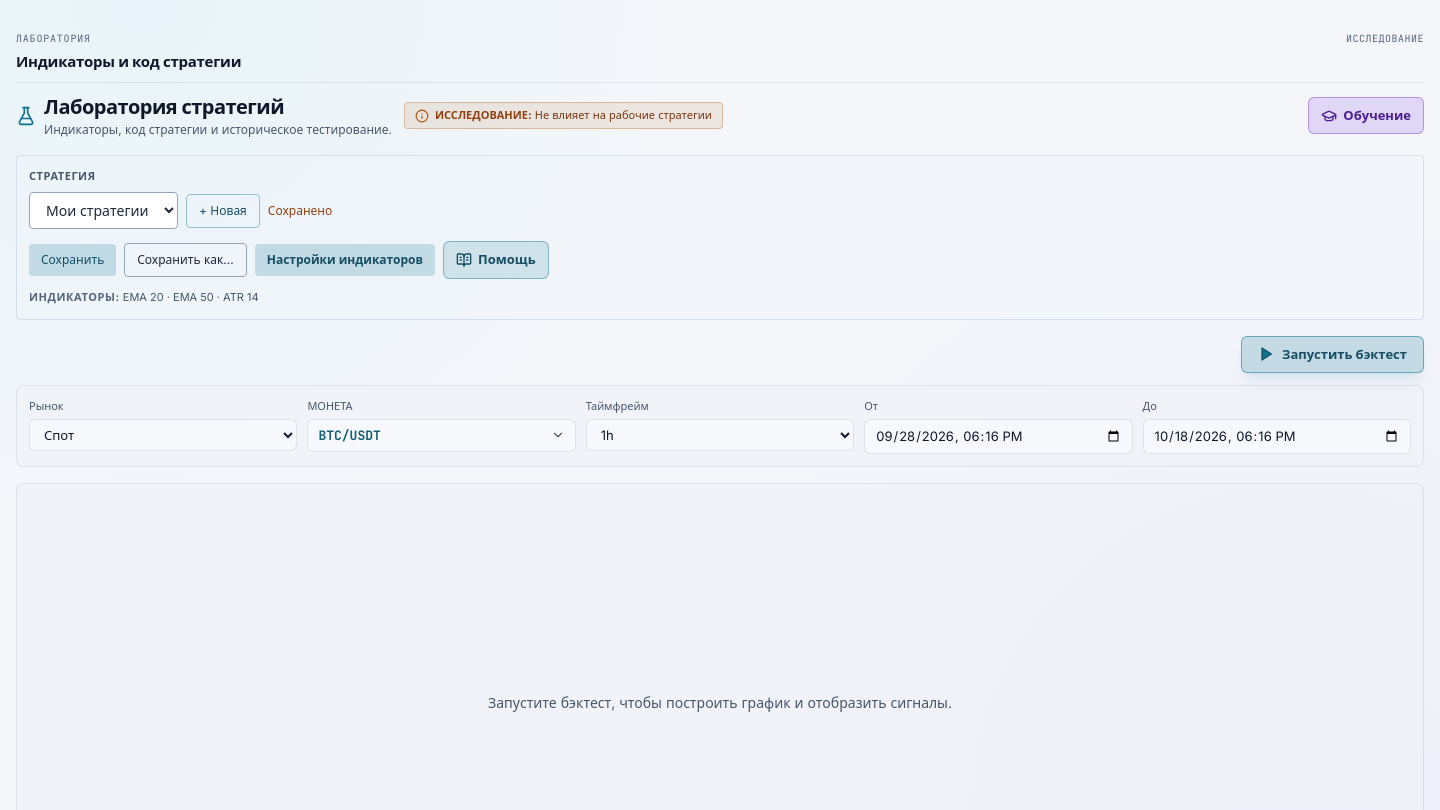
Scenario: Strategy Lab · Chart · API-ошибка не выдаётся за успешный ноль (§14) › M. Ошибка бэктеста: баннер ошибки, результат не подставлен
Click the button "Запустить бэктест": [1332, 354] box x1=1241 y1=336 x2=1424 y2=373
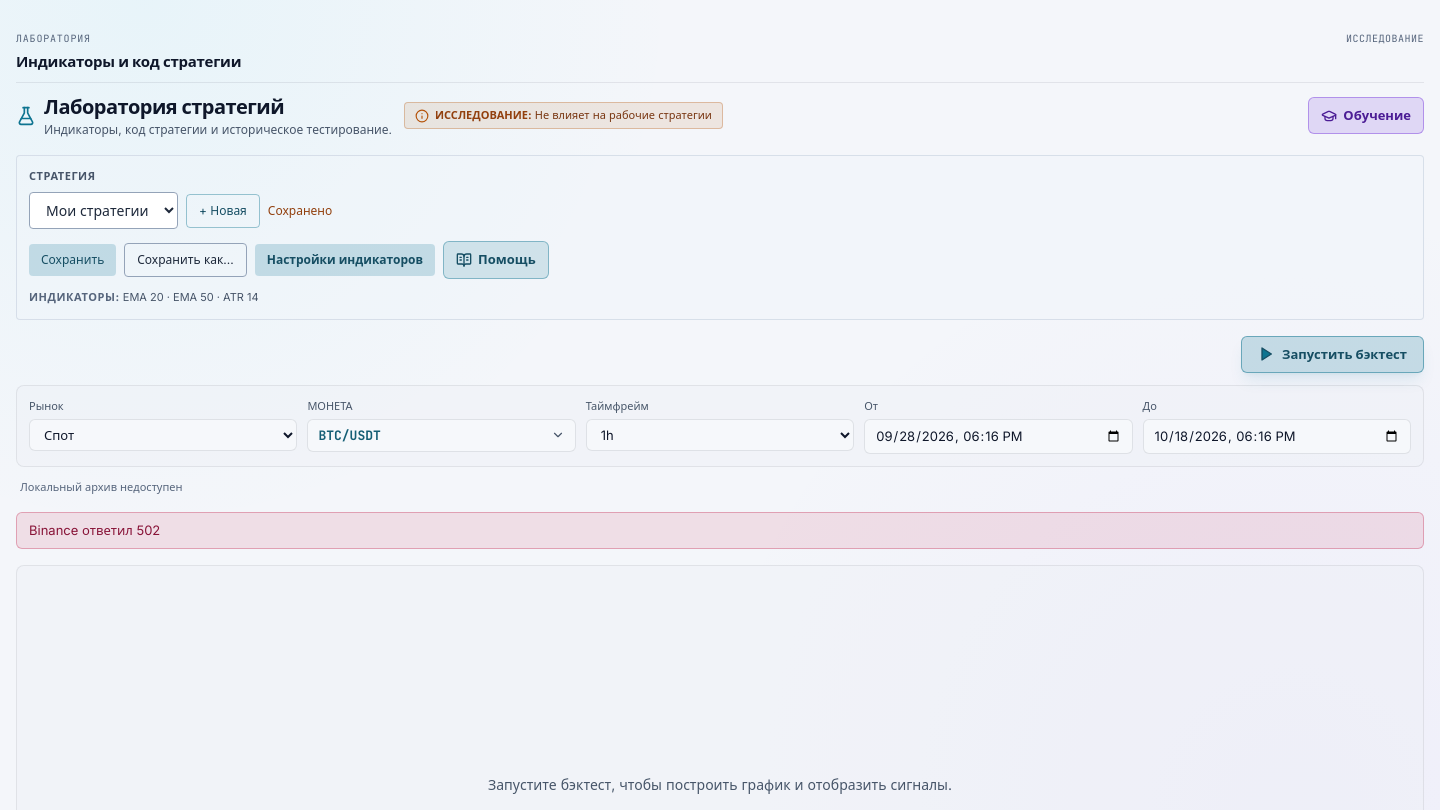
Expected: the text "Запустите бэктест, чтобы построить график" is shown, x1=488 y1=776 x2=952 y2=793
Result: the text "Binance ответил 502" is shown at x1=16 y1=512 x2=1424 y2=549
